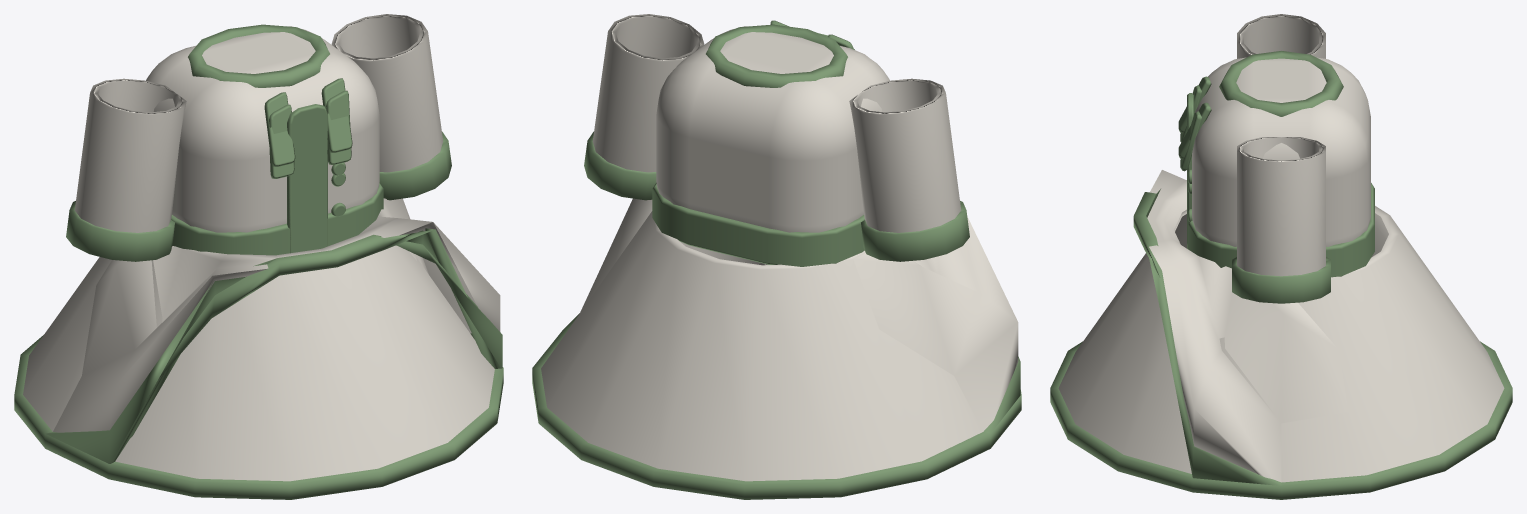
Rendered from ancient_belted_robe.glb.
3 views of the same model, side by side, from view 1: azimuth 30°, elevation 25°; view 2: azimuth 150°, elevation 25°; view 3: azimuth 270°, elevation 25° (orthographic). The views are drawn at different scales.
Visible parts, largest first — view 1: ancient_belted_robe_Body, ancient_belted_robe_Body_sit, ancient_belted_robe_ArmL, ancient_belted_robe_ArmR; view 2: ancient_belted_robe_Body, ancient_belted_robe_Body_sit, ancient_belted_robe_ArmL, ancient_belted_robe_ArmR; view 3: ancient_belted_robe_Body, ancient_belted_robe_Body_sit, ancient_belted_robe_ArmR, ancient_belted_robe_ArmL.
Boxes of the visible parts, x1,y1,x2,y2 form: ancient_belted_robe_Body: (14,24,503,499); ancient_belted_robe_Body_sit: (45,53,502,463); ancient_belted_robe_ArmL: (66,78,186,261); ancient_belted_robe_ArmR: (331,14,451,200); ancient_belted_robe_Body: (532,24,1021,499); ancient_belted_robe_Body_sit: (563,20,1020,433); ancient_belted_robe_ArmL: (849,78,969,261); ancient_belted_robe_ArmR: (584,14,704,200); ancient_belted_robe_Body: (1050,51,1512,499); ancient_belted_robe_Body_sit: (1133,76,1388,485); ancient_belted_robe_ArmR: (1232,137,1330,303); ancient_belted_robe_ArmL: (1237,14,1325,58).
Bounding box in the file's own units: 0.748 × 0.6289 × 0.748.
